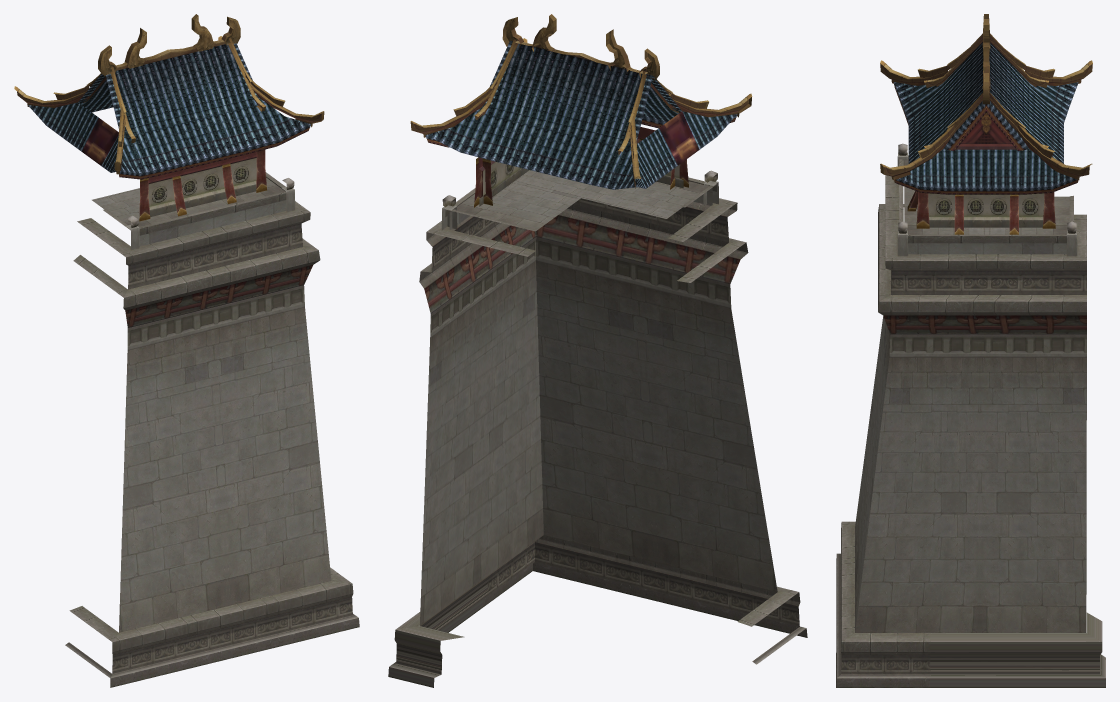
Rendered from zc_chengmen02_53_51_5225out.fbx.
3 renders of one model, left to right at view 1: azimuth 30°, elevation 25°; view 2: azimuth 150°, elevation 25°; view 3: azimuth 270°, elevation 25°, orthographic. The views are drawn at different scales.
Visible parts, largest first — view 1: 0002_zc_chengmen02, 0000_zc_chengmen02, 0001_zc_chengmen02; view 2: 0002_zc_chengmen02, 0000_zc_chengmen02, 0001_zc_chengmen02; view 3: 0002_zc_chengmen02, 0000_zc_chengmen02, 0001_zc_chengmen02.
Part boxes in pixels (x1,y1,x2,y2): 0002_zc_chengmen02: (65,172,359,687); 0000_zc_chengmen02: (28,43,310,179); 0001_zc_chengmen02: (14,14,324,250); 0002_zc_chengmen02: (388,170,807,687); 0000_zc_chengmen02: (425,41,737,189); 0001_zc_chengmen02: (410,14,752,230); 0002_zc_chengmen02: (836,155,1105,687); 0000_zc_chengmen02: (894,42,1078,194); 0001_zc_chengmen02: (880,14,1092,256).
Bounding box in the file's own units: 3.22 × 7.15 × 2.93.
